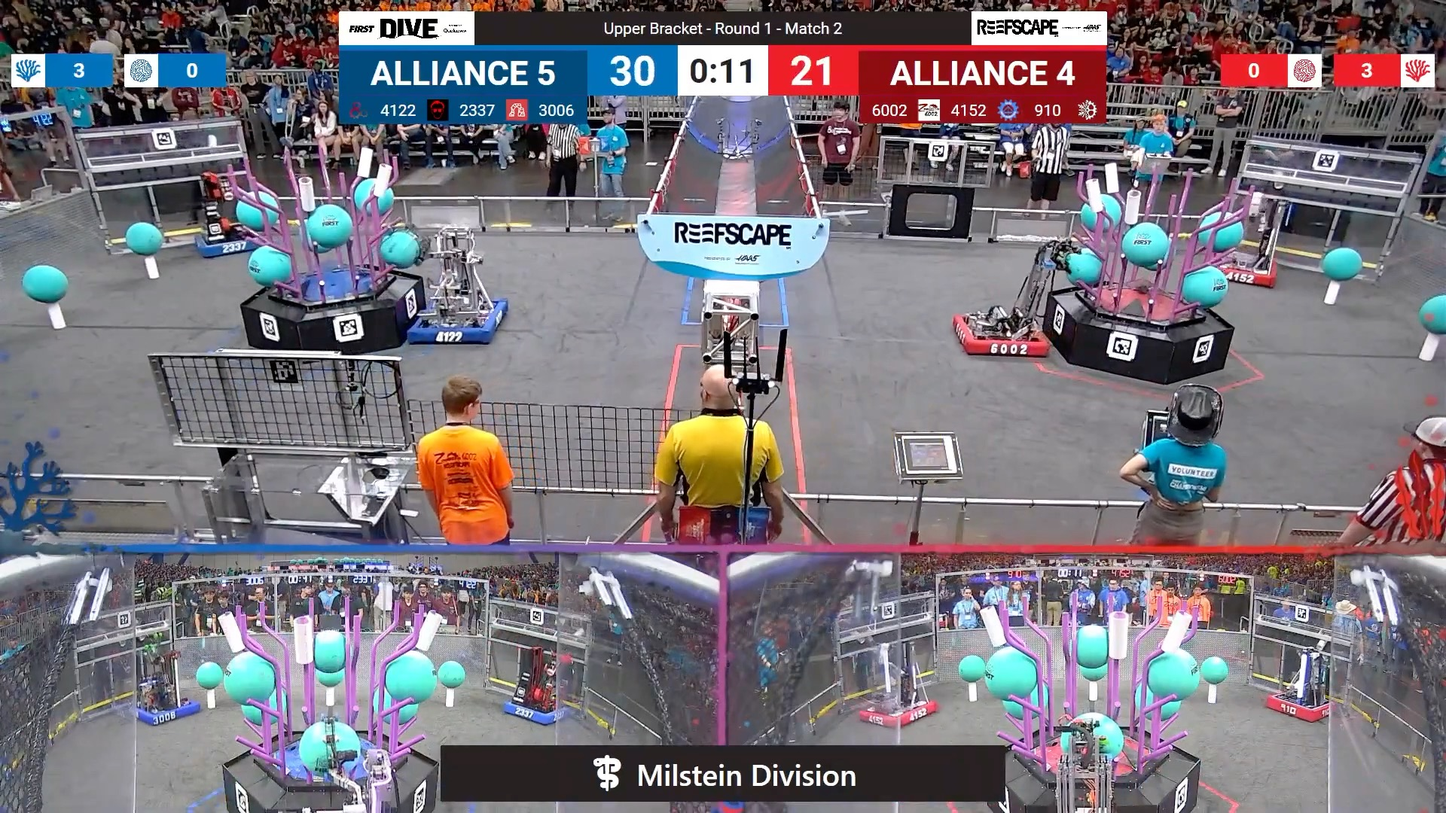bumpers: (396, 291, 511, 351), (949, 306, 1054, 361), (1202, 250, 1286, 291), (190, 223, 273, 262), (125, 695, 206, 730), (853, 695, 941, 727), (1259, 691, 1343, 723), (497, 695, 576, 729)
